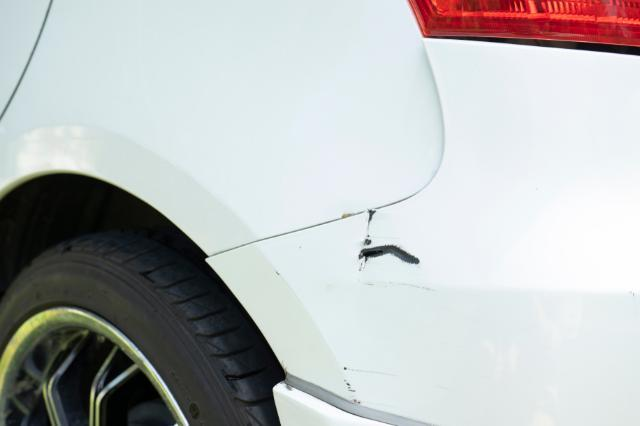Bumper: (341, 204, 442, 294)
